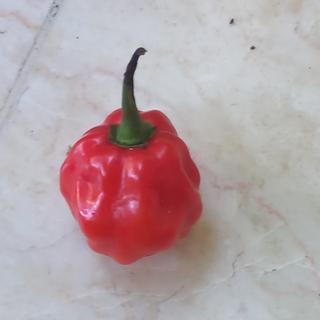Grade-B: (53, 101, 206, 266)
